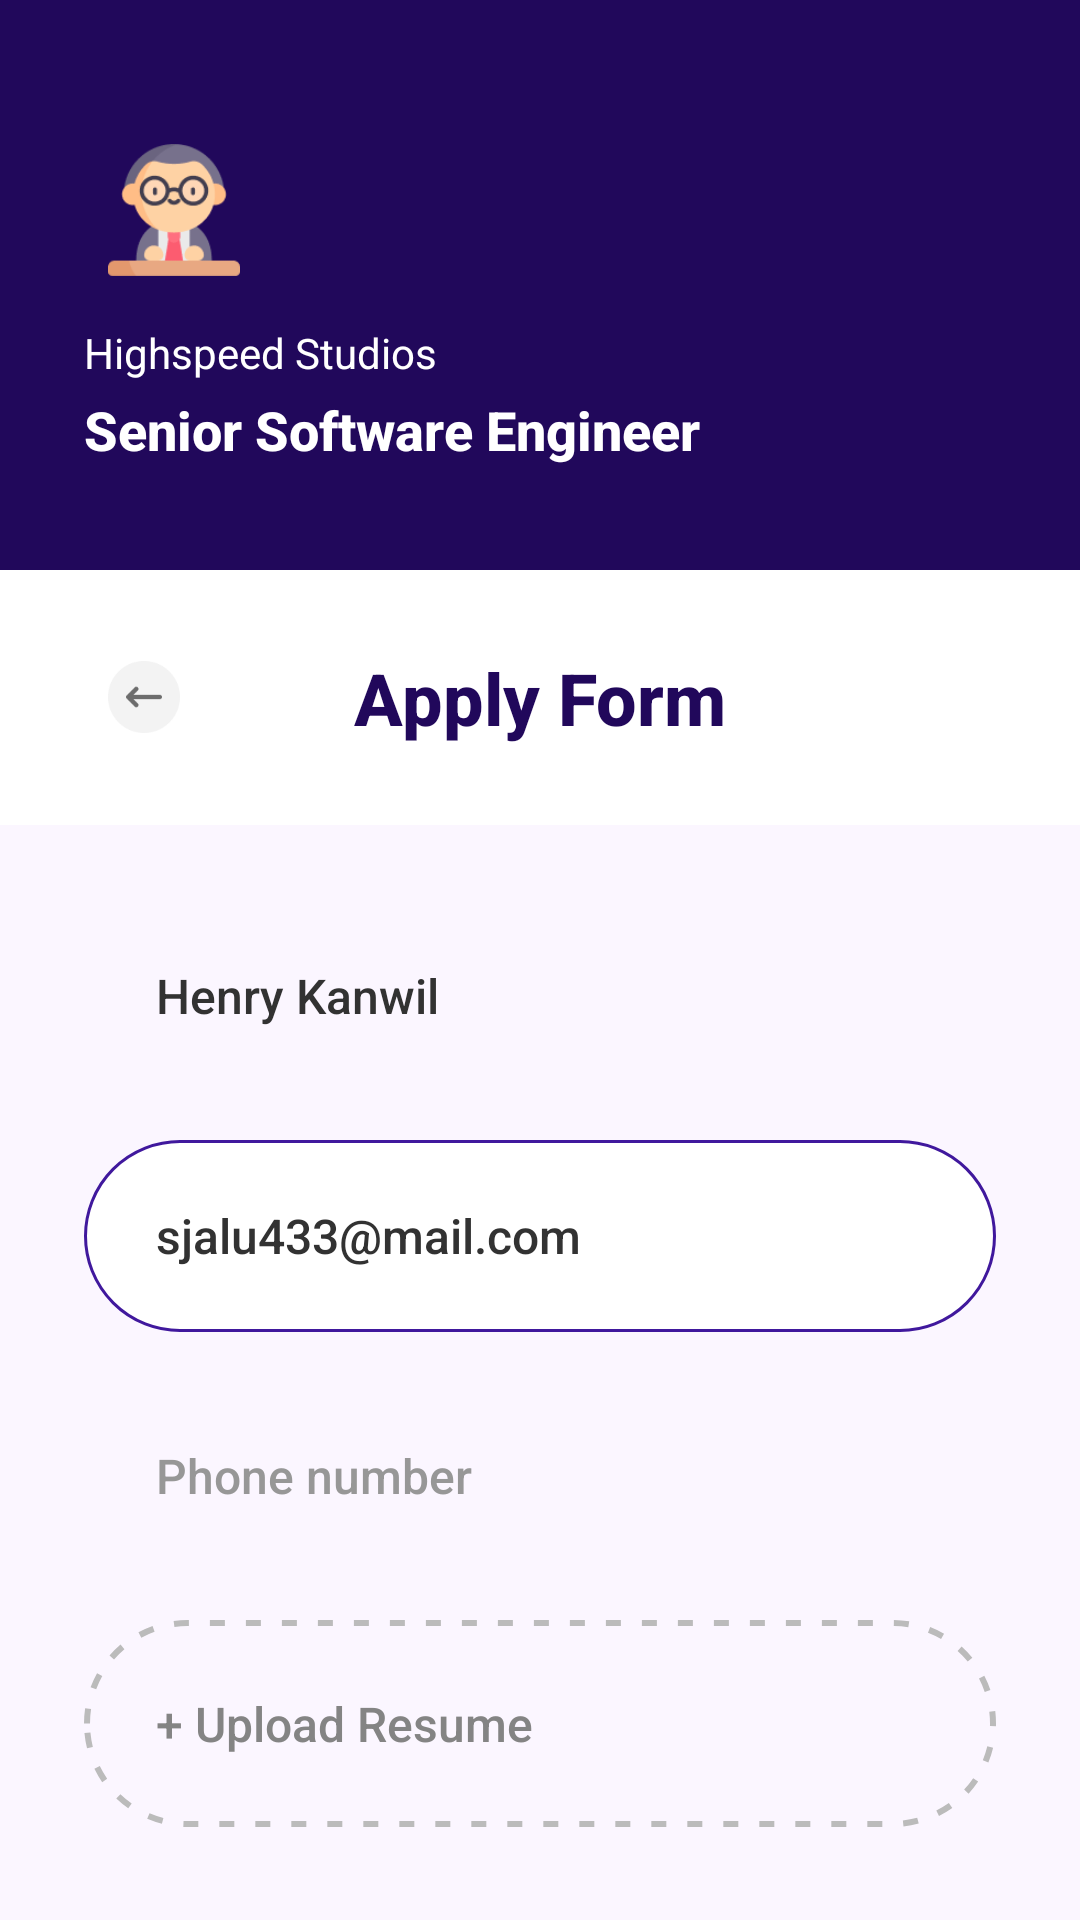

Where to tap for icons on this 1080px x 1920px app screen, as (x,y):
Back: (144,697)
